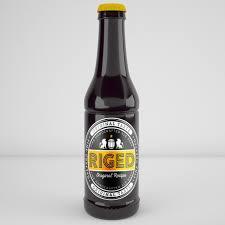Glass bottle: (74, 1, 151, 217)
